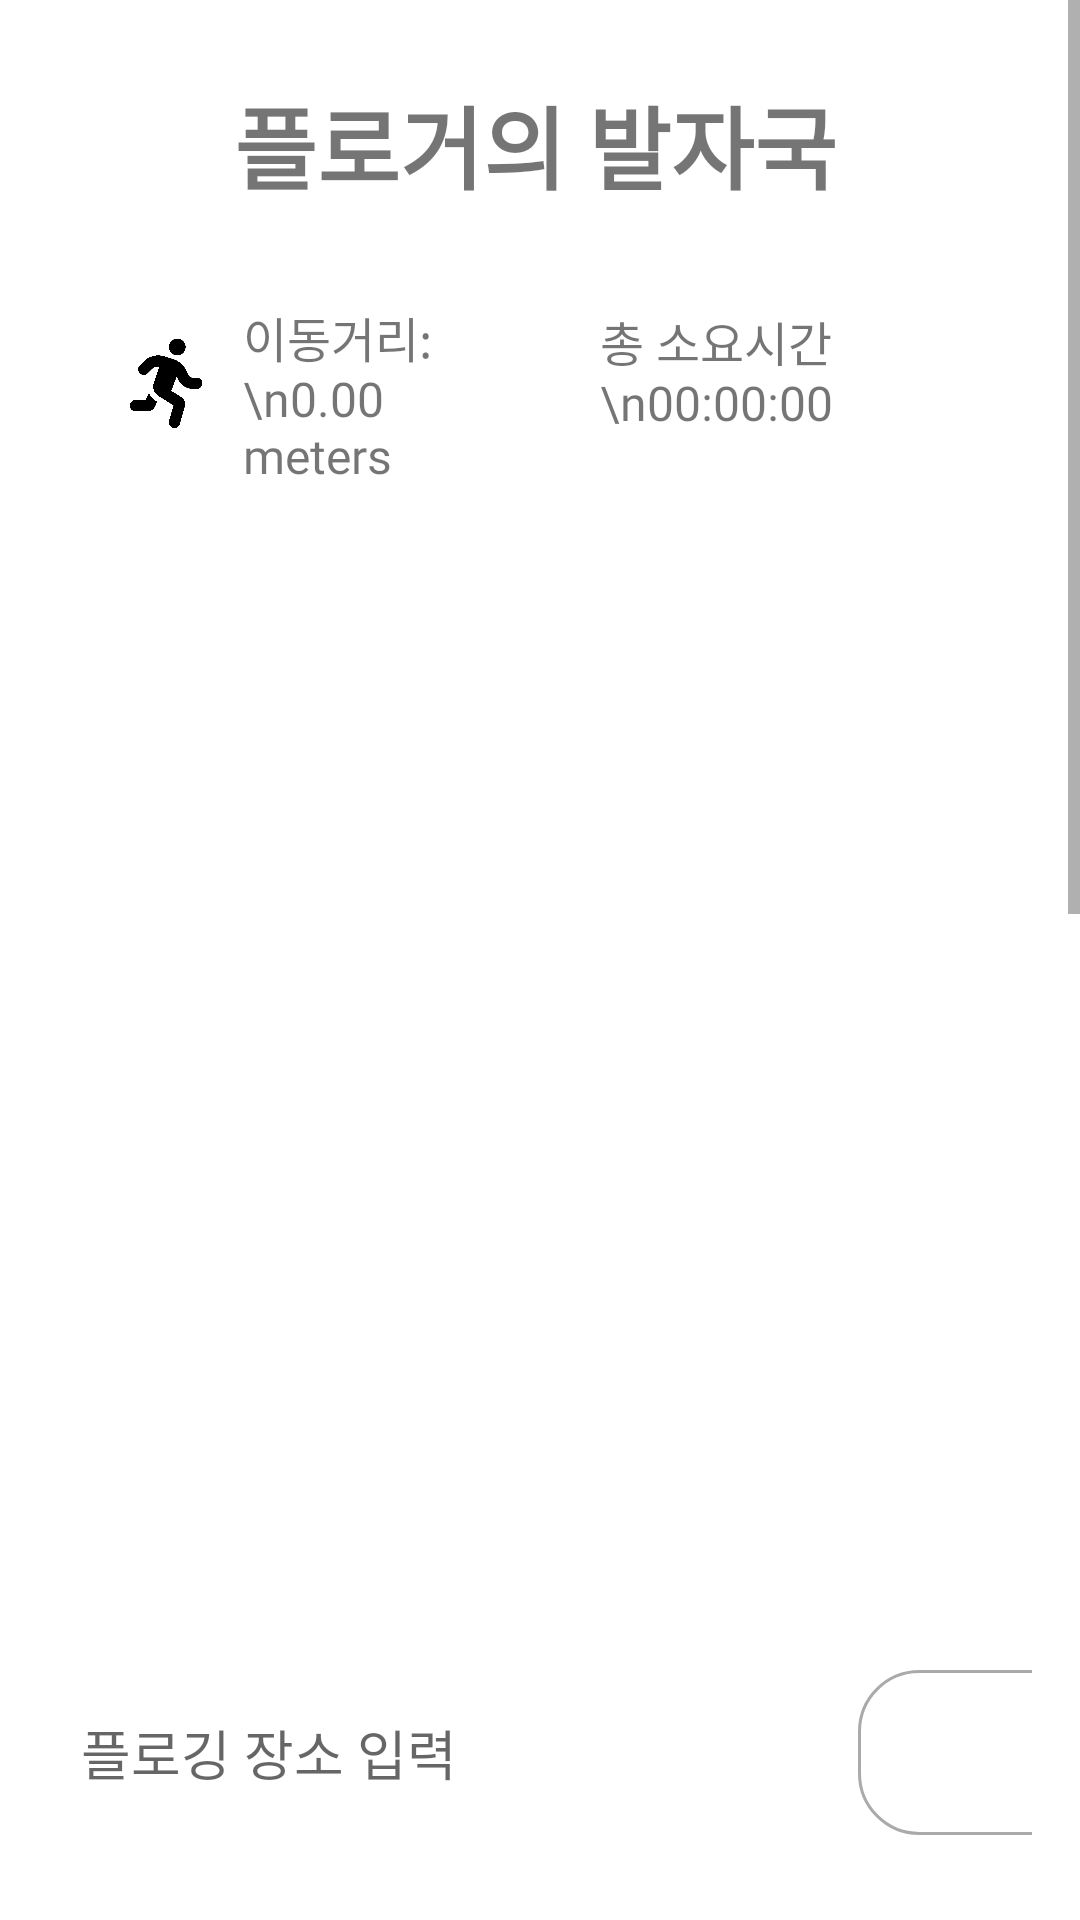

Screen size 1080 x 1920. Icon name, then its center in pixels as (x,y):
person running: (166,383)
